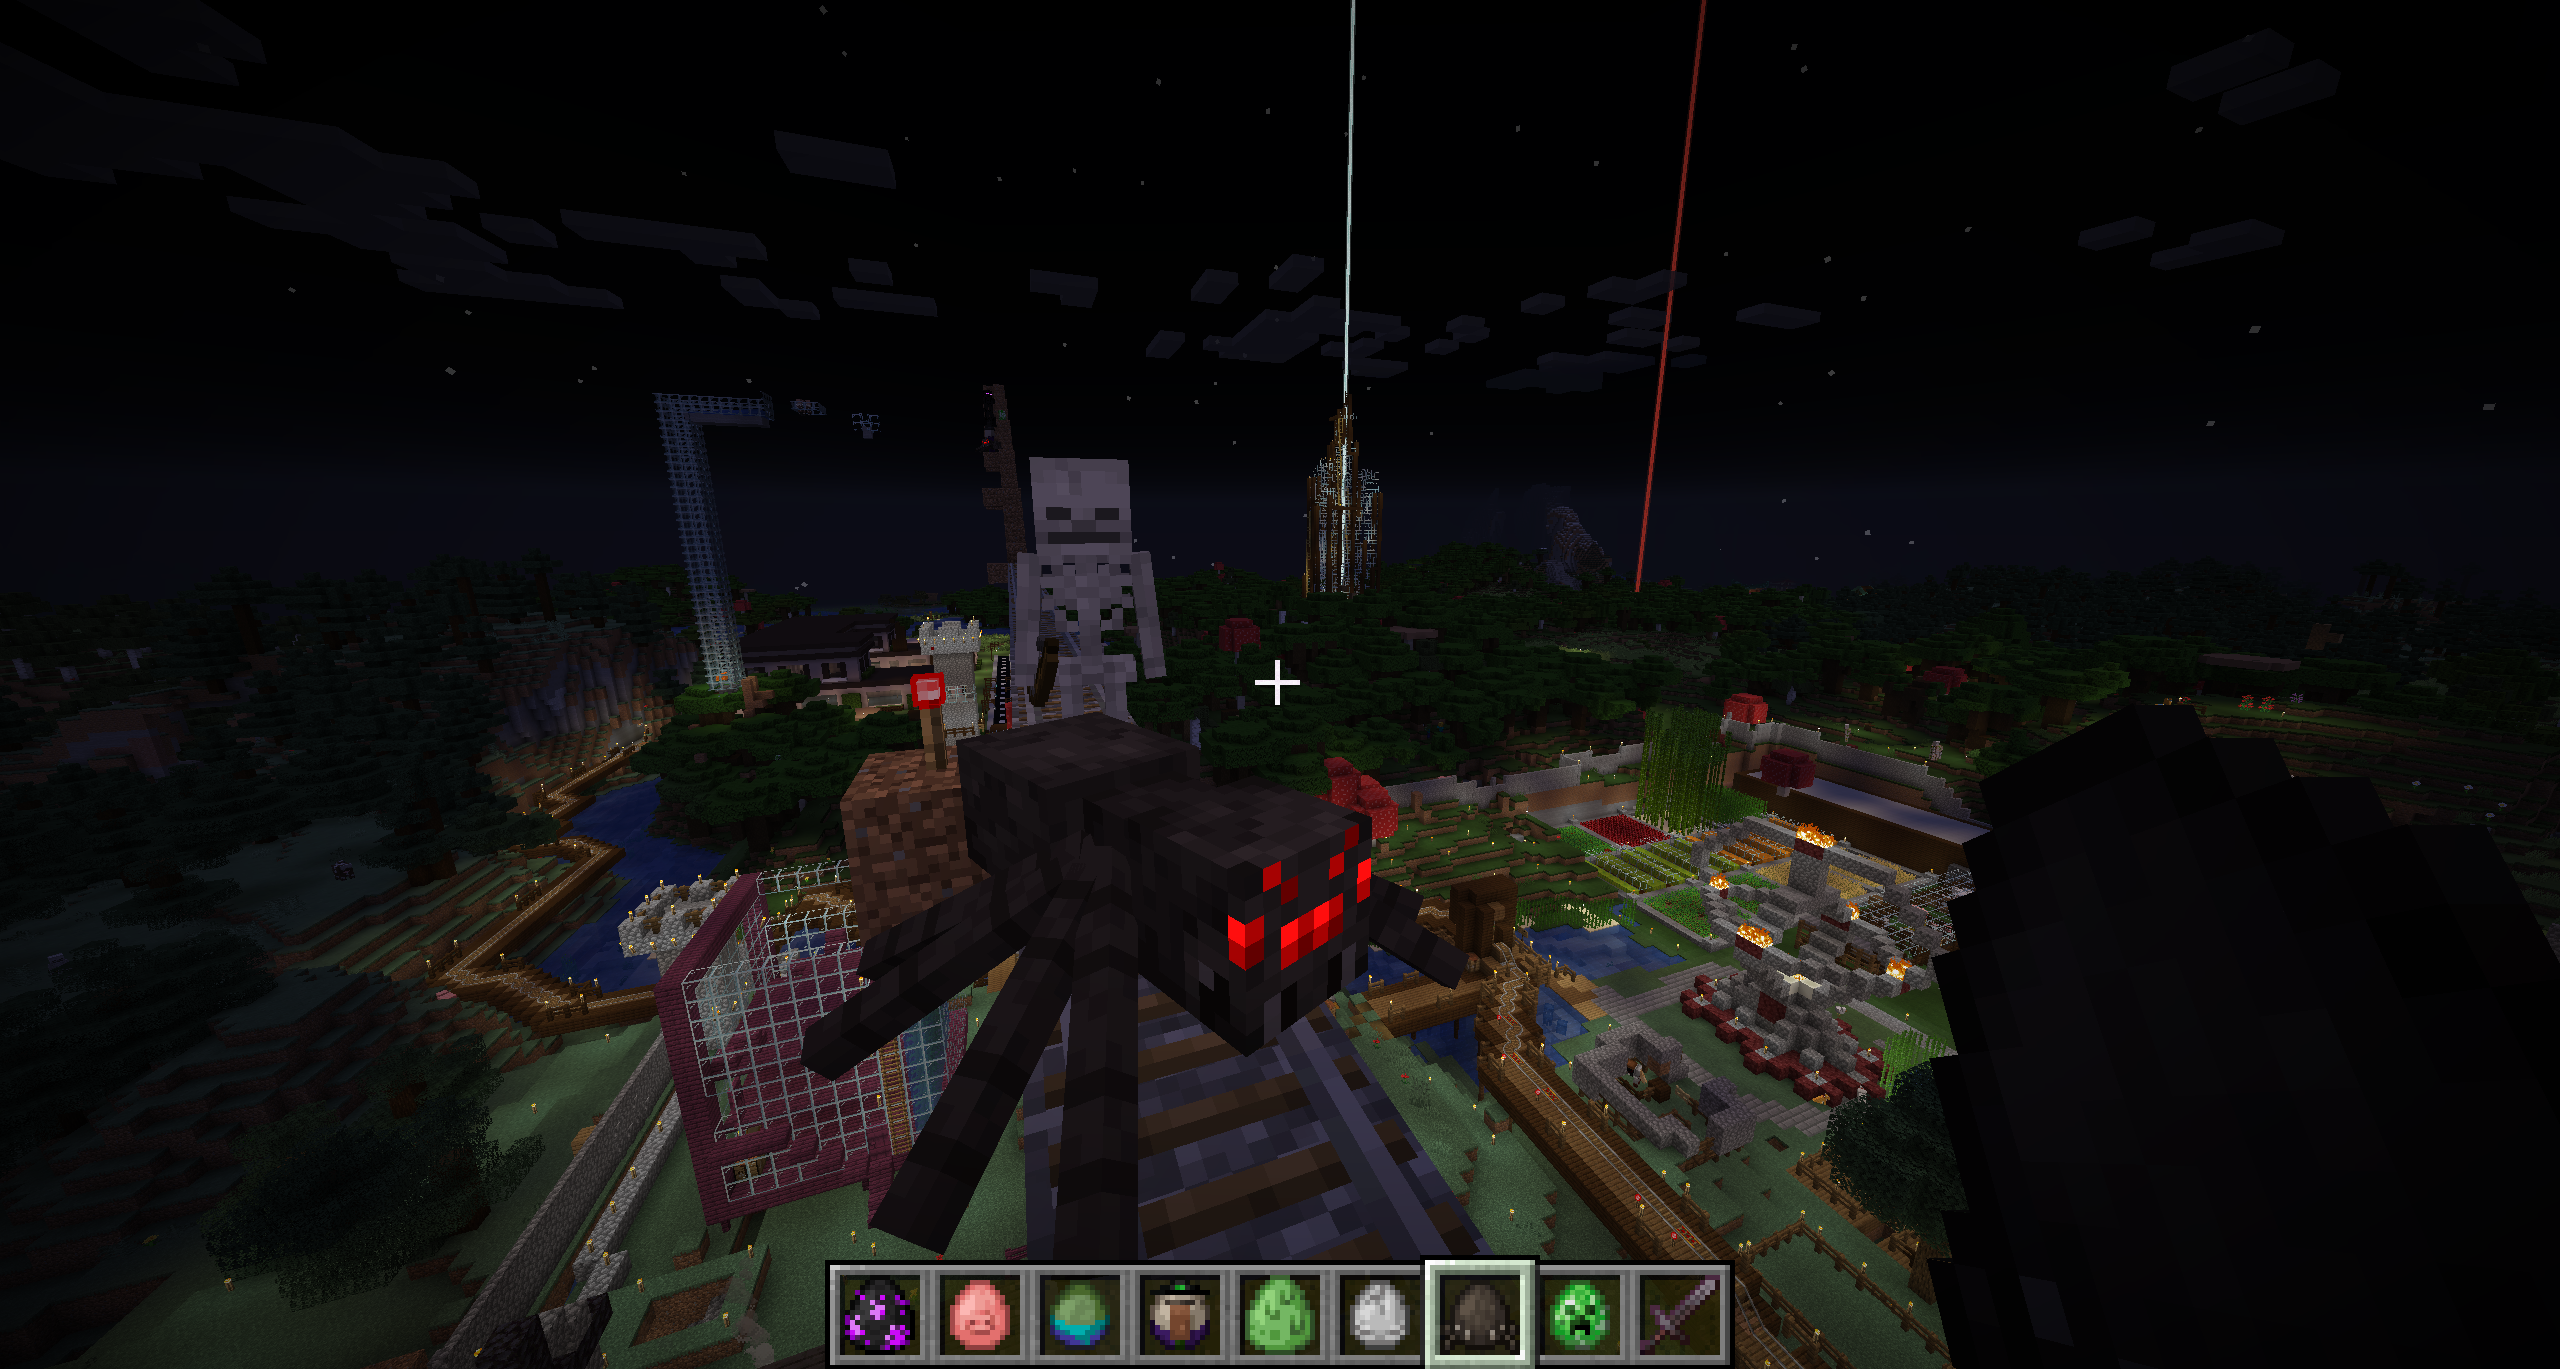araignees: (904, 712, 1417, 1193)
squelettes: (1006, 454, 1167, 731)
